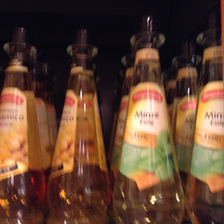vinegar: (113, 18, 193, 223), (49, 29, 110, 224), (1, 29, 47, 223), (190, 31, 223, 224)
